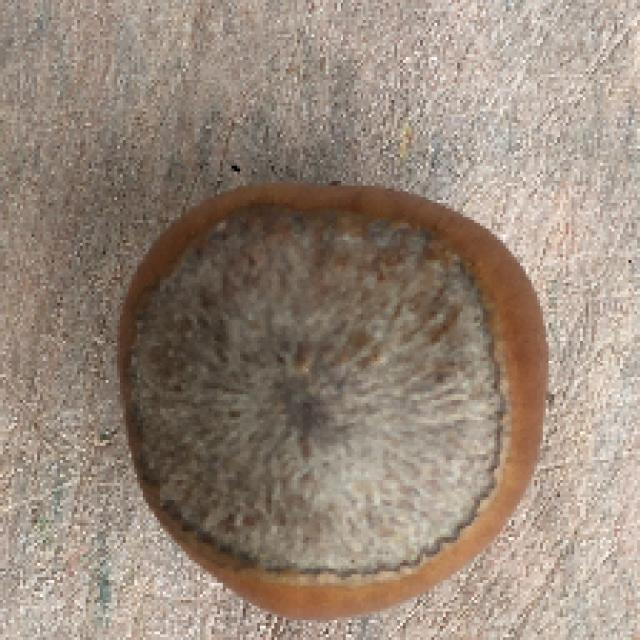qualityHazelnut: (115, 182, 556, 628)
